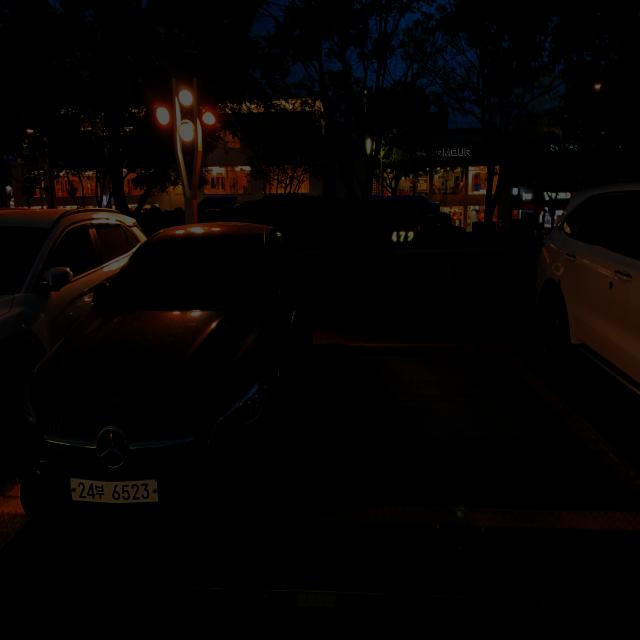empty: (325, 351, 640, 519)
occupied: (6, 227, 320, 530)
